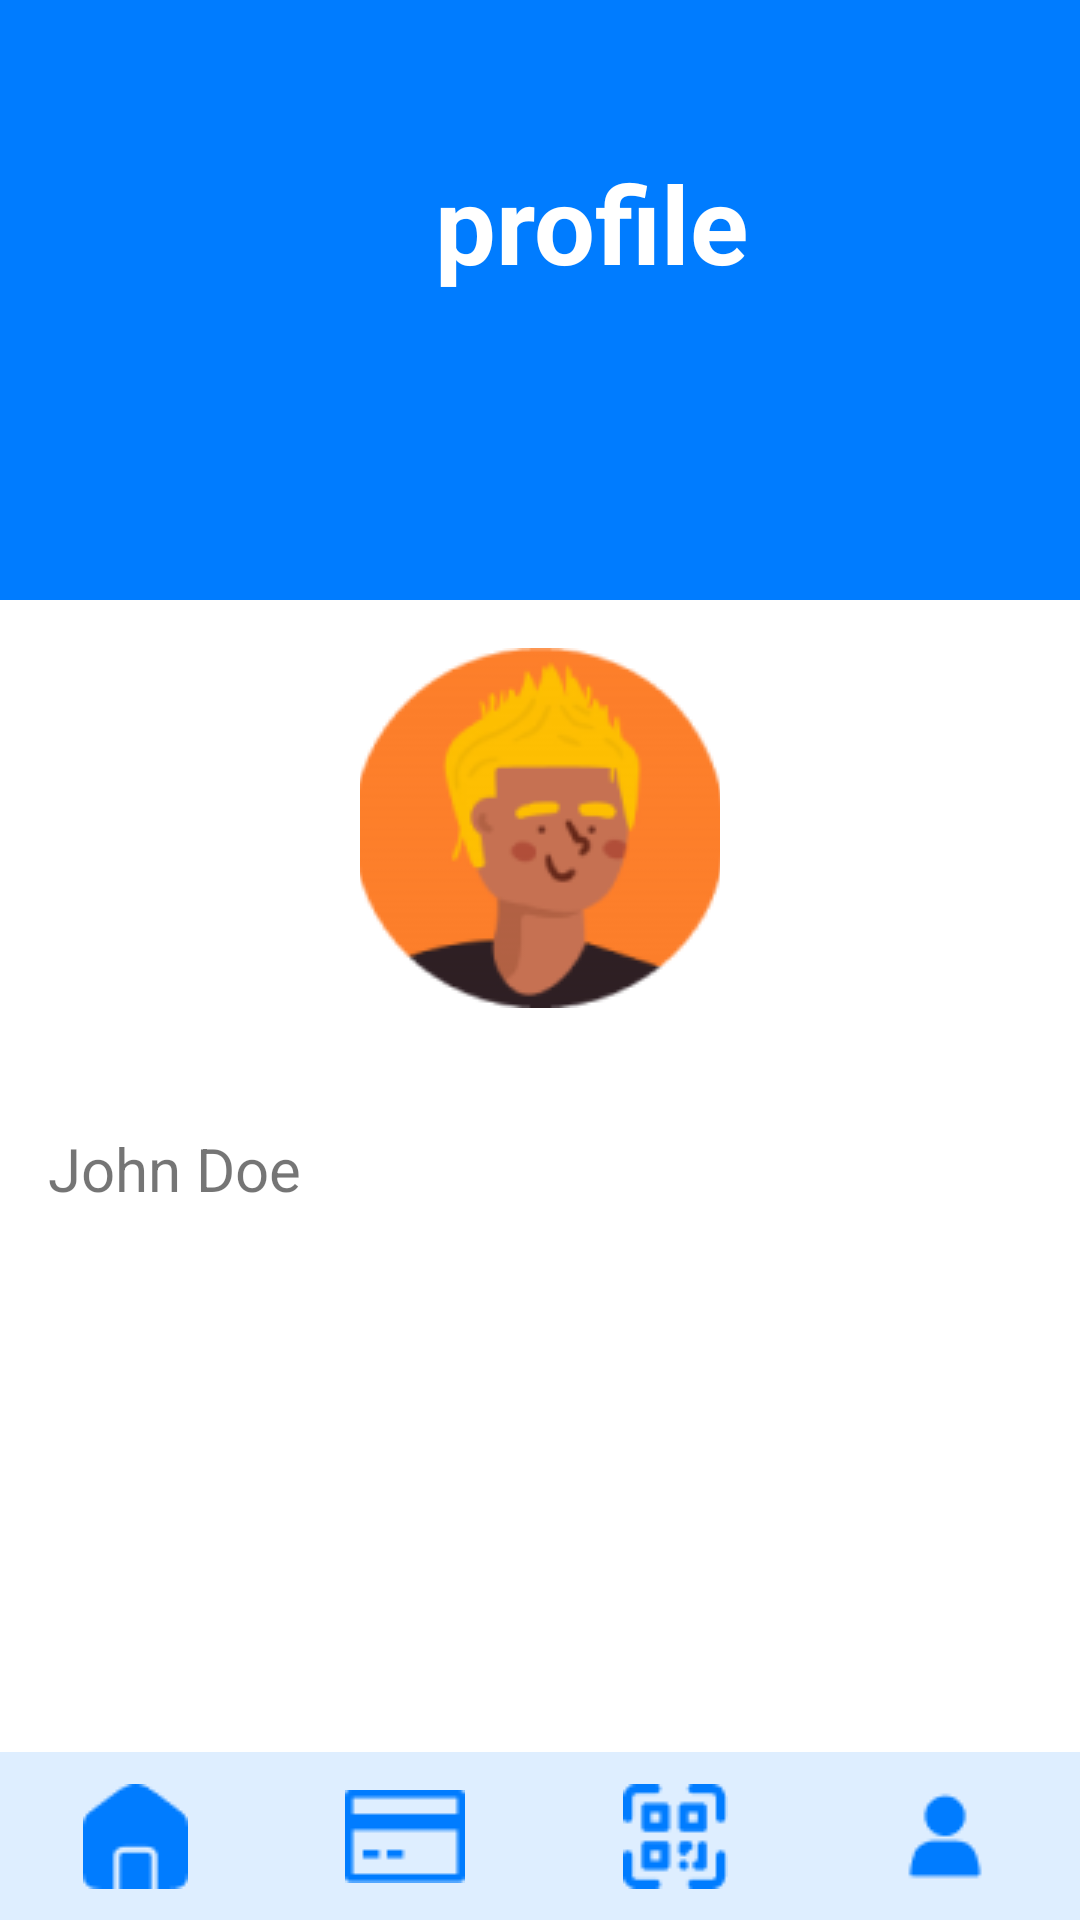

Screen size 1080w x 1920h. Icon name, then its box in pixels as (x1, y1, x2, y2):
card: (345, 1790, 465, 1883)
home: (83, 1784, 188, 1889)
profile: (908, 1794, 982, 1879)
